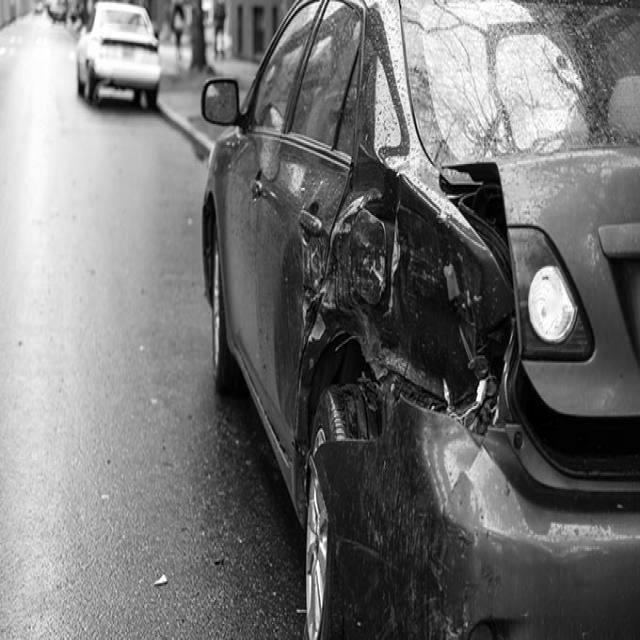Taillight-Damage: (435, 236, 583, 372)
boot-dent: (489, 162, 640, 494)
quaterpanel-dent: (324, 175, 455, 537)
